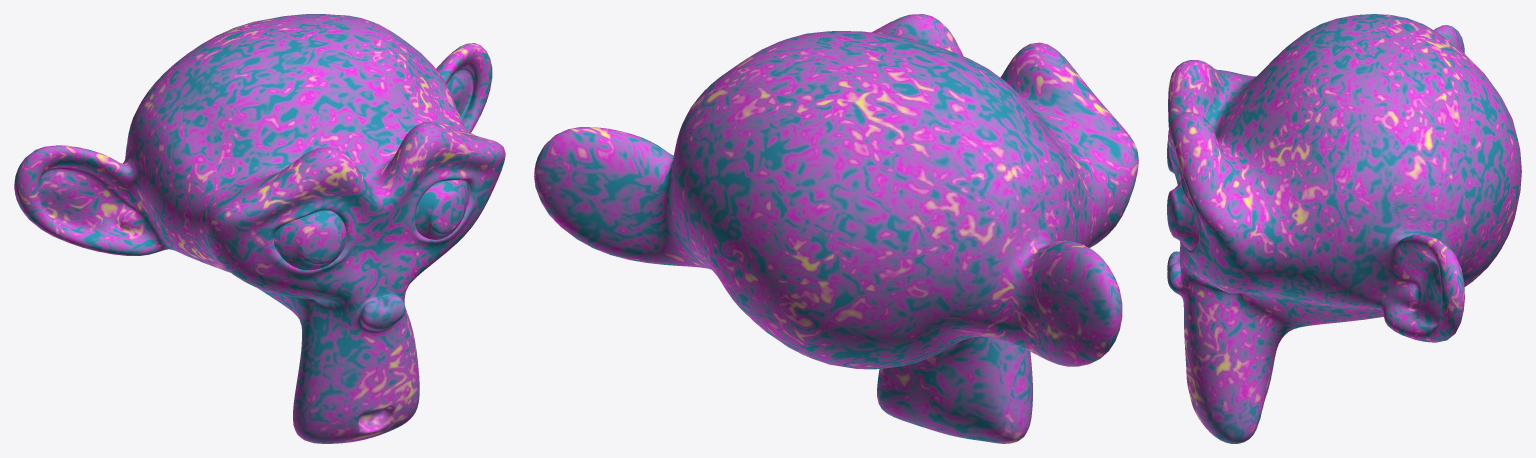
The model's file is monkey_subdivide.glb.
The picture shows the model from 3 angles, left to right: view 1: azimuth 30°, elevation 25°; view 2: azimuth 150°, elevation 25°; view 3: azimuth 270°, elevation 25°; orthographic projection. The views are drawn at different scales.
Visible parts, largest first — view 1: Suzanne; view 2: Suzanne; view 3: Suzanne.
Part boxes in pixels (left/top/right/bottom): Suzanne: left=14, top=14, right=505, bottom=443; Suzanne: left=534, top=14, right=1138, bottom=443; Suzanne: left=1167, top=14, right=1521, bottom=443.
Size of the model in its own units: 2.66 by 1.91 by 1.6.
Materials: 1 (1 with a texture image).
